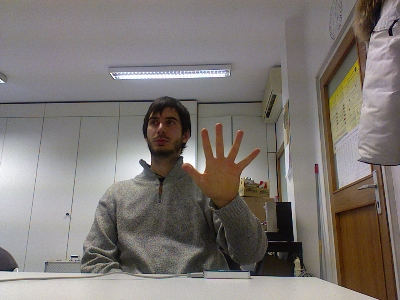布: (181, 121, 259, 202)
